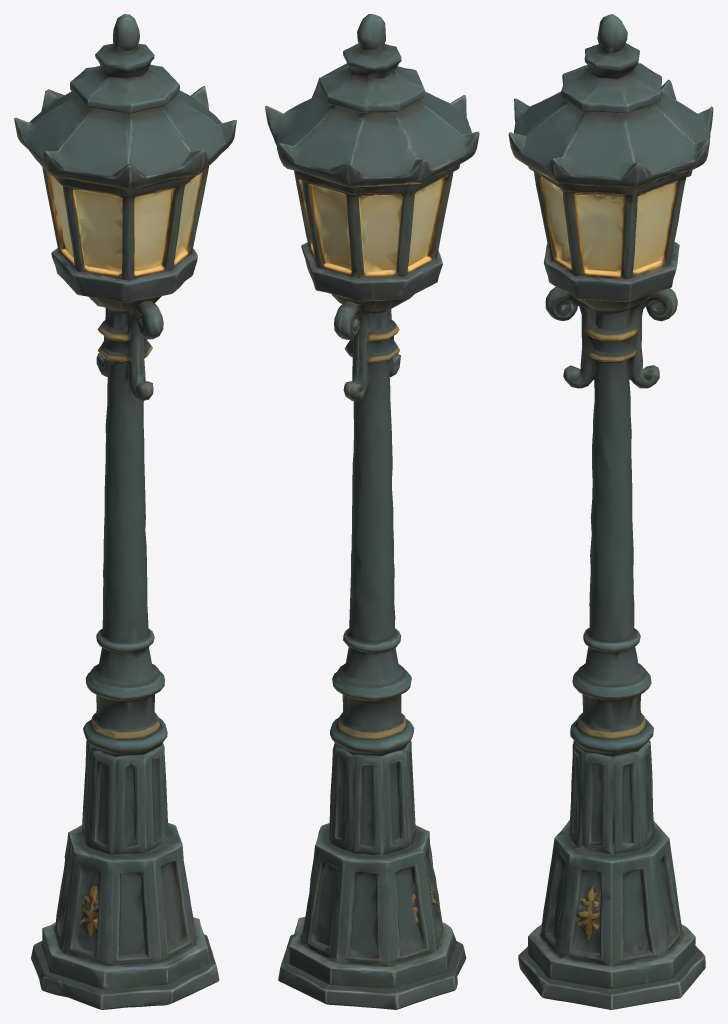
The model's file is farol.glb.
3 renders of one model, left to right at view 1: azimuth 30°, elevation 25°; view 2: azimuth 150°, elevation 25°; view 3: azimuth 270°, elevation 25°, orthographic.
Parts seen in each view (by area): view 1: tripo_node_75c3c0e7-567a-42c7-a619-c3d997a173dd; view 2: tripo_node_75c3c0e7-567a-42c7-a619-c3d997a173dd; view 3: tripo_node_75c3c0e7-567a-42c7-a619-c3d997a173dd.
Part boxes in pixels (<box>): tripo_node_75c3c0e7-567a-42c7-a619-c3d997a173dd: <box>14,14,236,1009</box>; tripo_node_75c3c0e7-567a-42c7-a619-c3d997a173dd: <box>265,14,479,1009</box>; tripo_node_75c3c0e7-567a-42c7-a619-c3d997a173dd: <box>508,14,713,1009</box>.
Bounding box in the file's own units: 0.2047 × 1 × 0.1945.
Materials: 1 (1 with a texture image).
